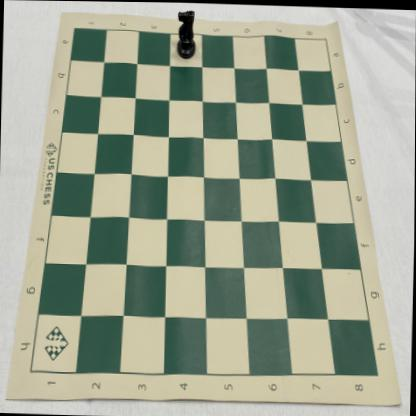black-knight: (174, 7, 197, 60)
